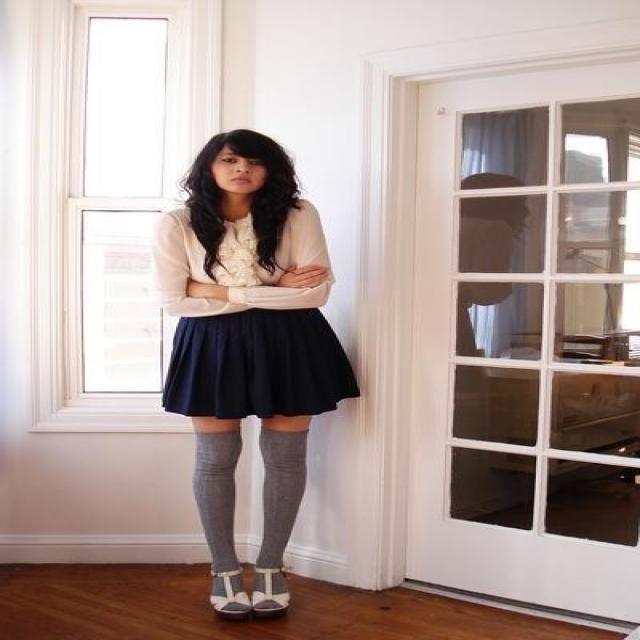shirt: (157, 199, 331, 319)
shoe: (210, 576, 288, 612)
skirt: (160, 307, 358, 425)
